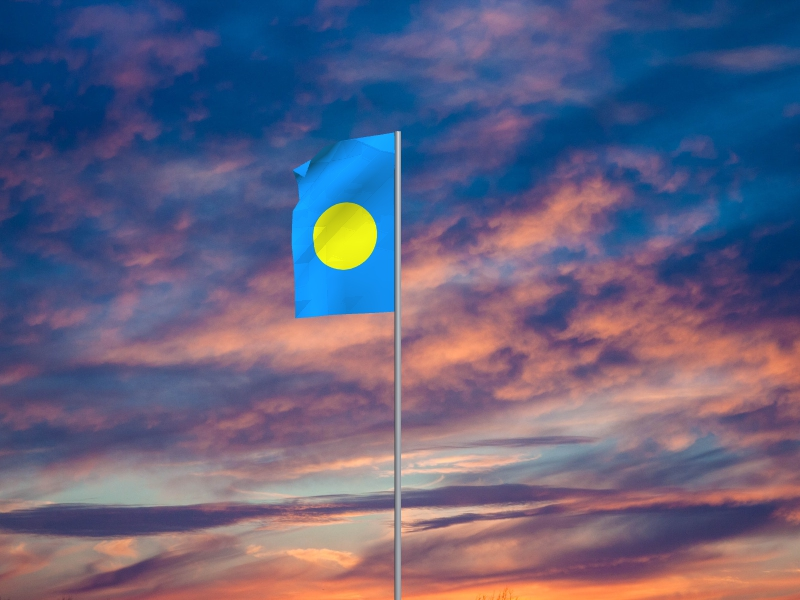pw: (291, 133, 395, 320)
